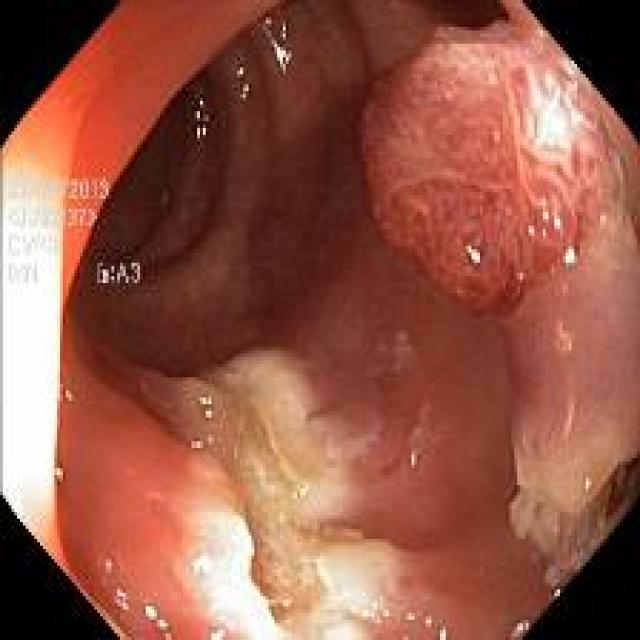Polyps: (360, 22, 609, 312)
